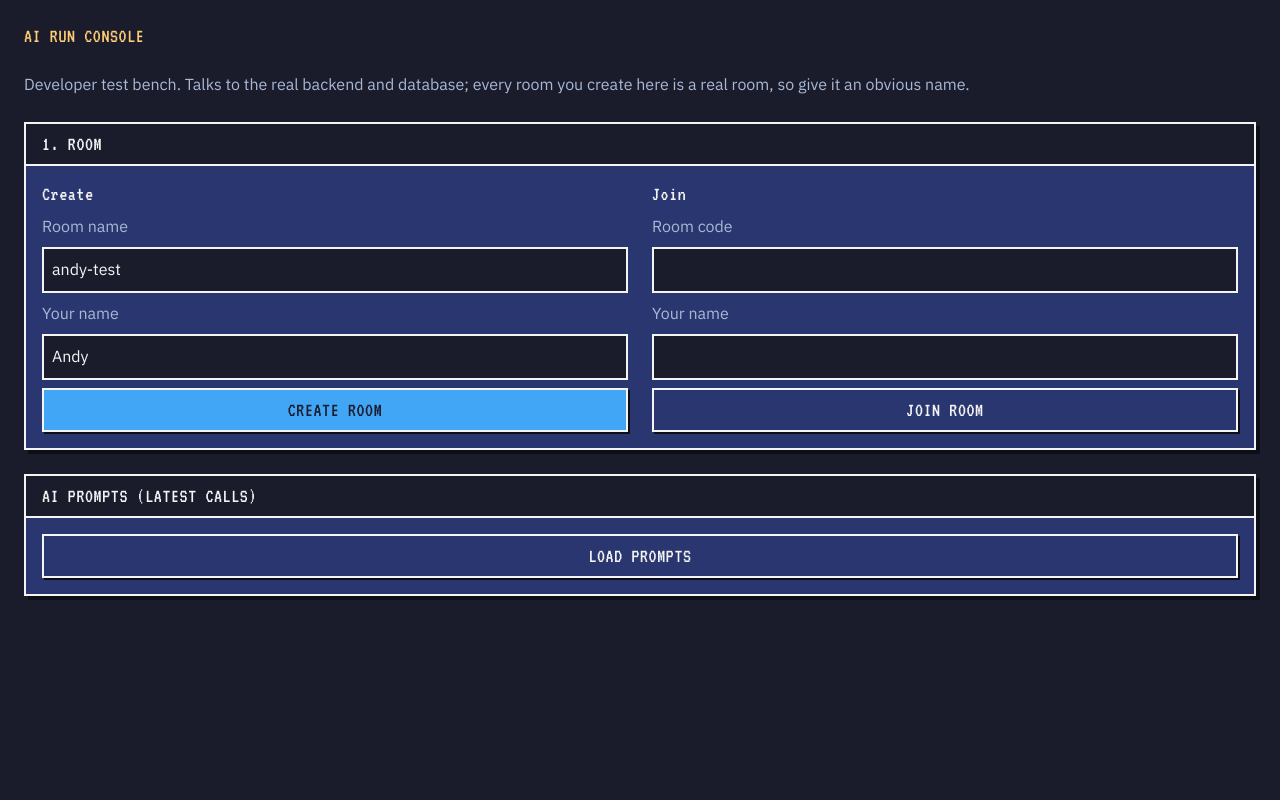
Test: DevRunConsole › starts a run and lists it with its status
What coordinates should you click on to do the following:
click the button "Create room"
I would click on:
 (335, 410)
Its box is [42,388,628,432].
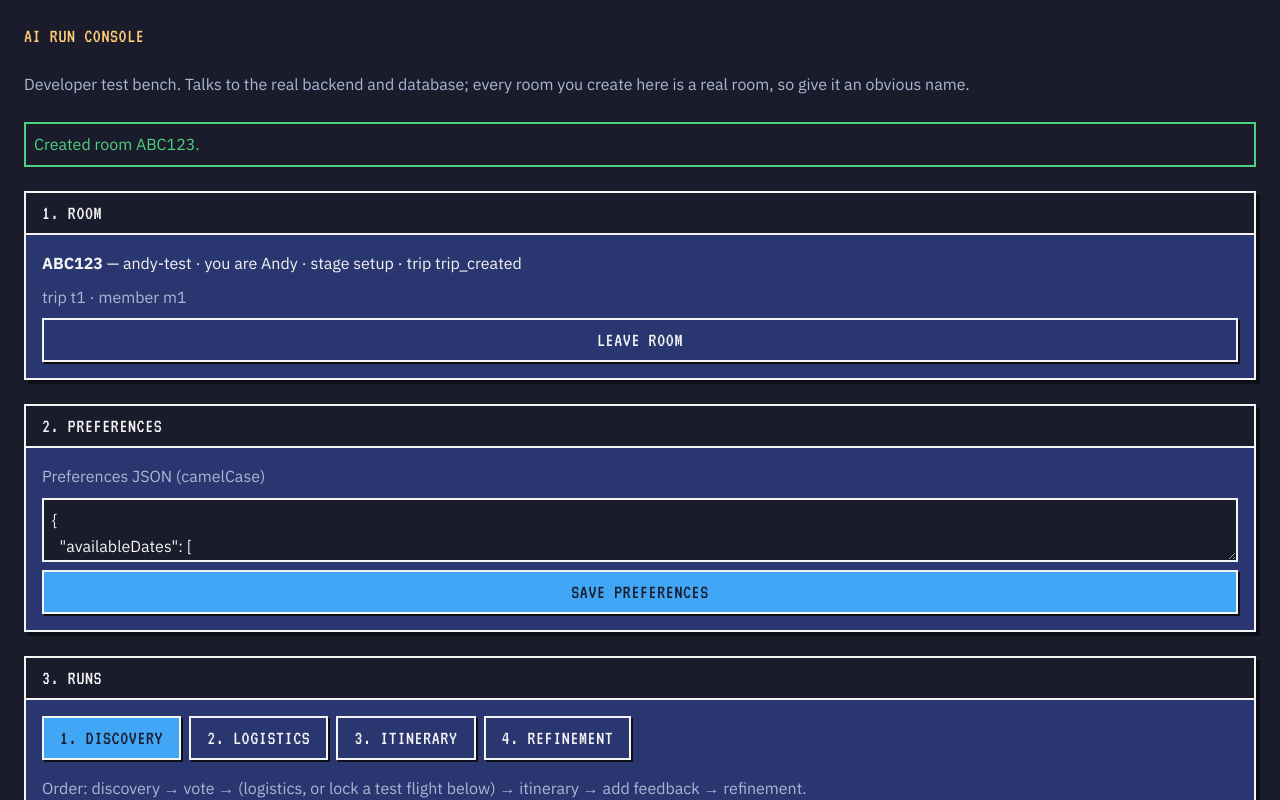
Expected: the text "ABC123" is shown, [42,253,103,273]
What coordinates should you click on to do the following:
click the button with aria-label "start discovery run"
I would click on:
 (112, 738)
Its box is [42,716,181,760].
(page scrolled)
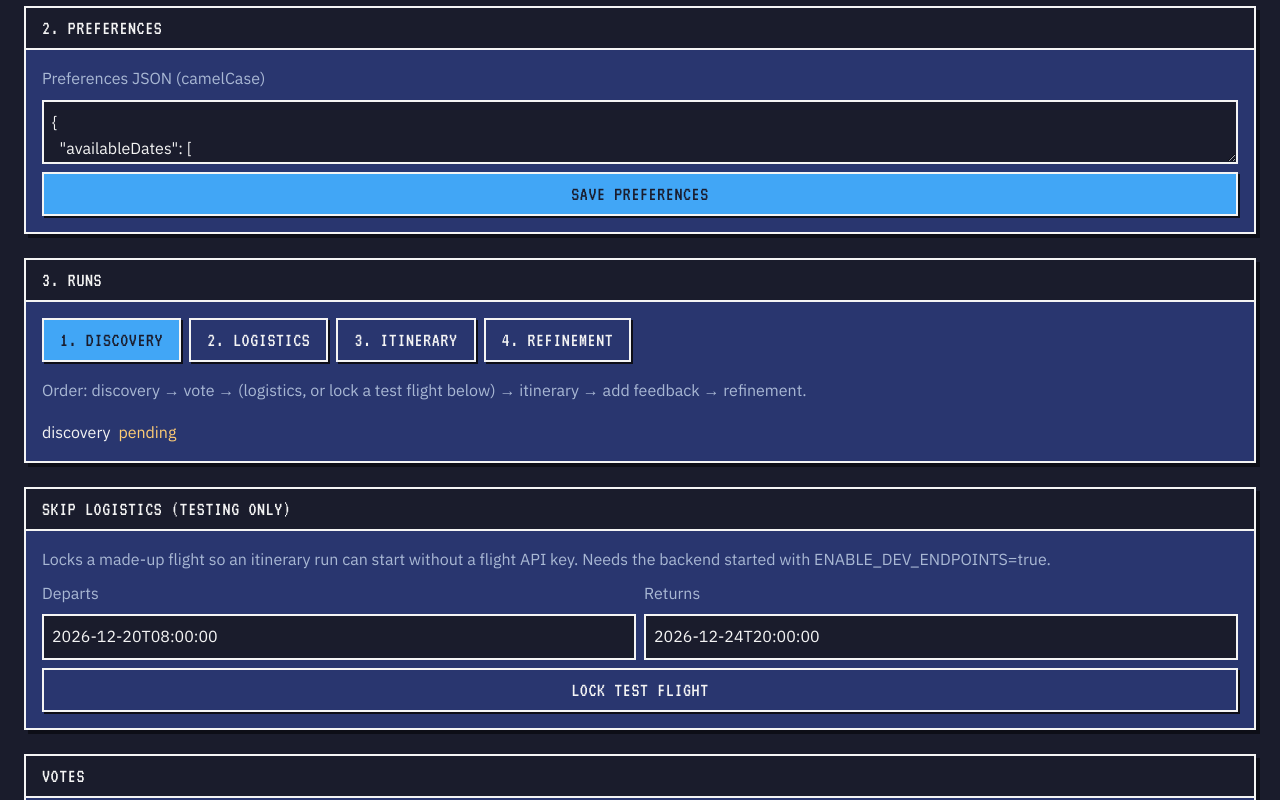
Expected: the text "discovery" is shown, [42,420,110,445]
